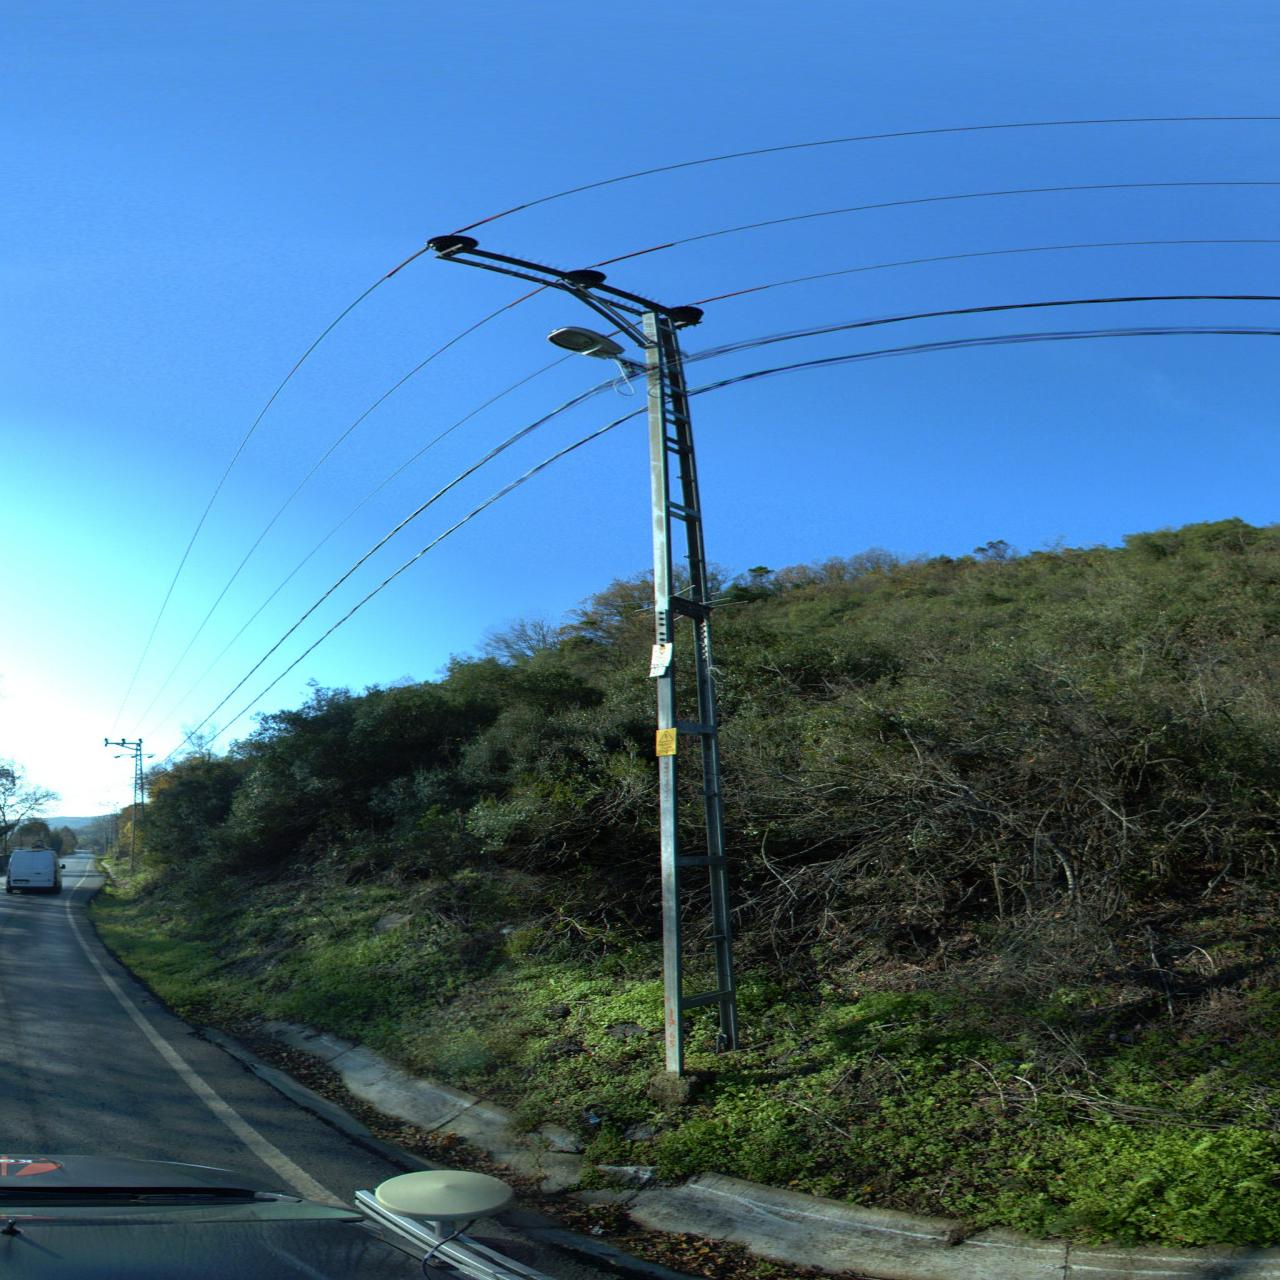Utility Pole Information Plate: (647, 642, 674, 679), (655, 728, 676, 756)
